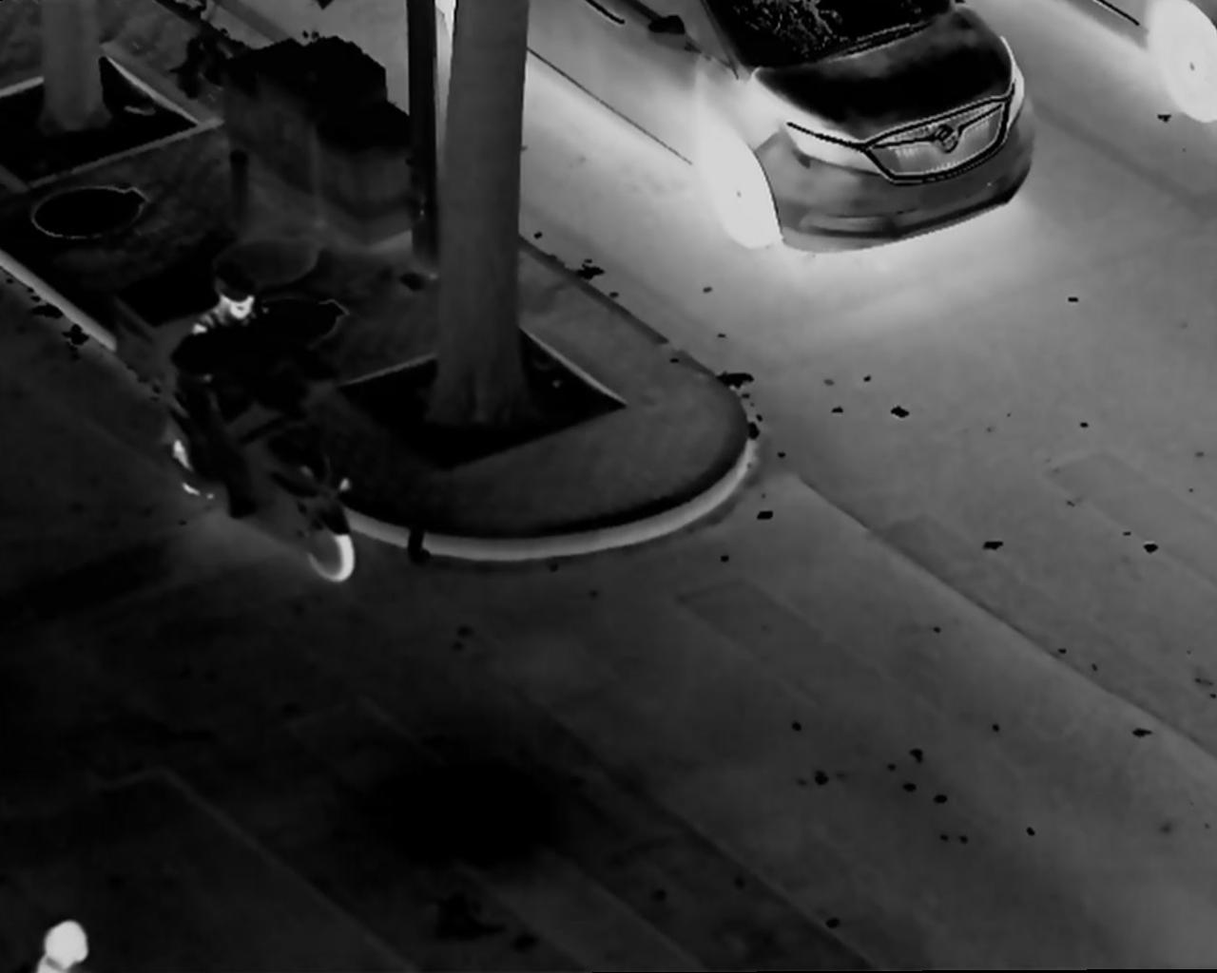person: (174, 271, 294, 484)
